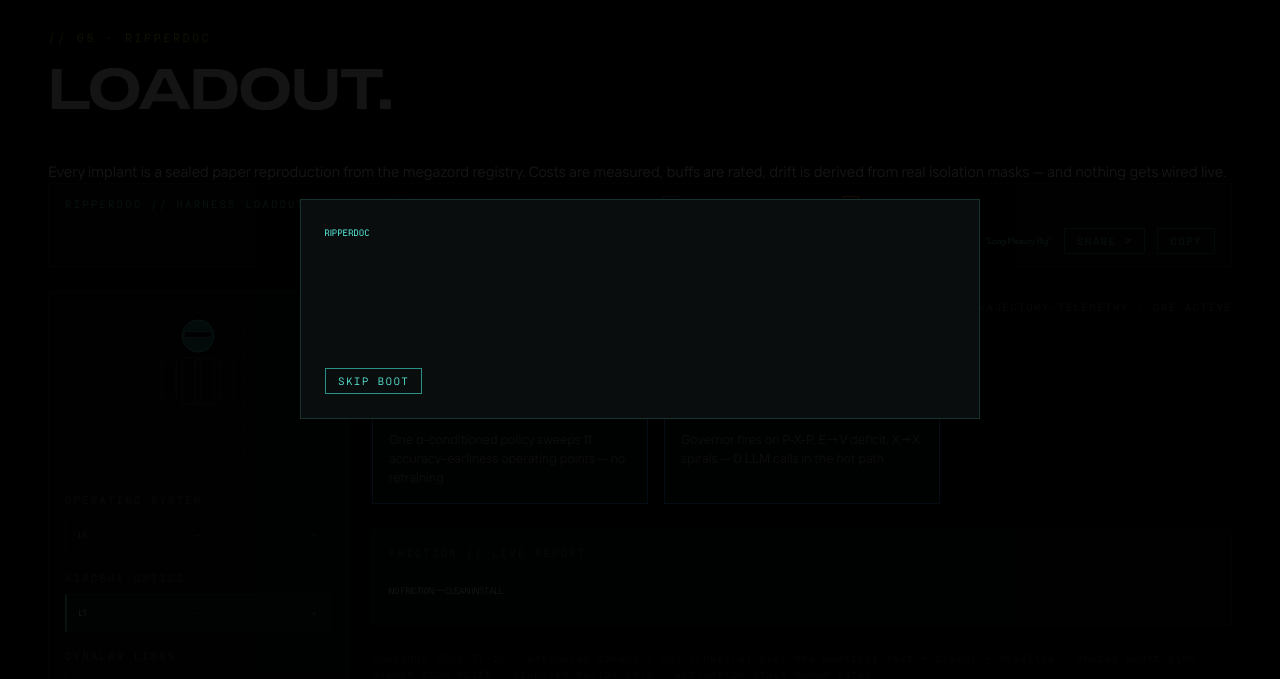
it: Loadout › single-slot equip swaps the occupant
Click the button "Skip boot" at coordinates (374, 381), box left=325, top=368, right=422, bottom=394
(page scrolled)
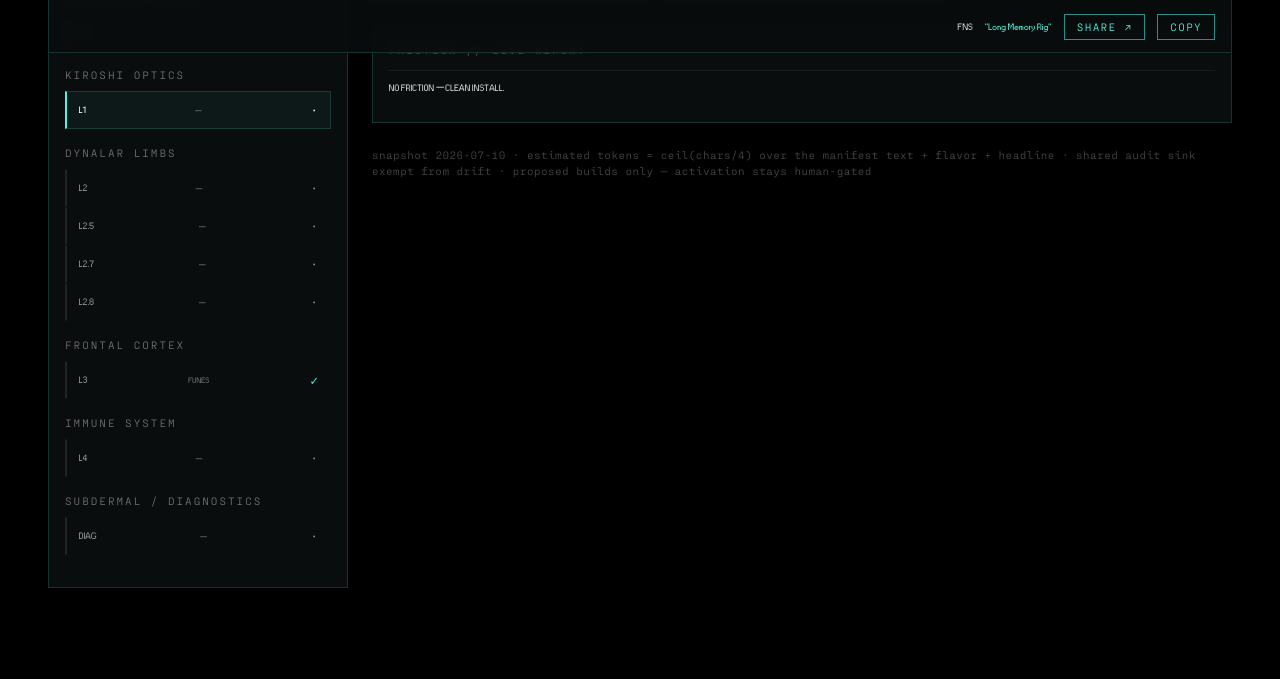
Click the button "L3 funes ✓" at coordinates (198, 380), box left=65, top=361, right=331, bottom=399
(page scrolled)
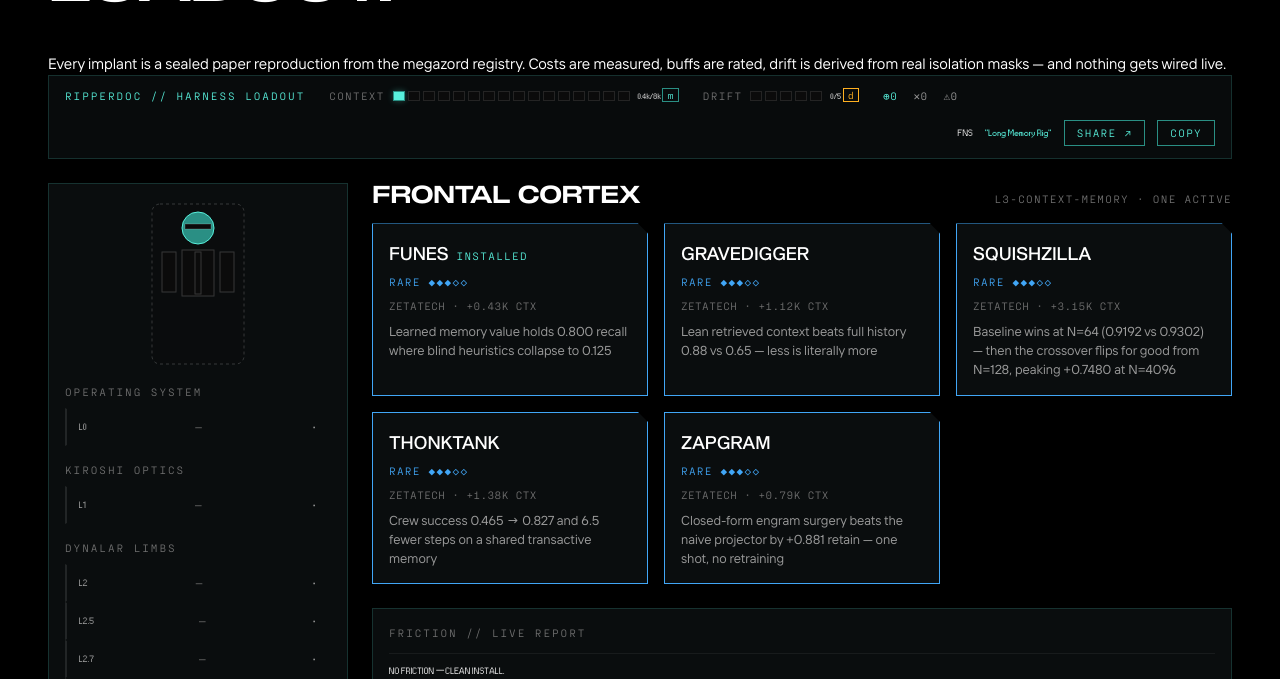
Click the button with aria-label "gravedigger — inspect implant" at coordinates (802, 310), box left=664, top=223, right=940, bottom=396
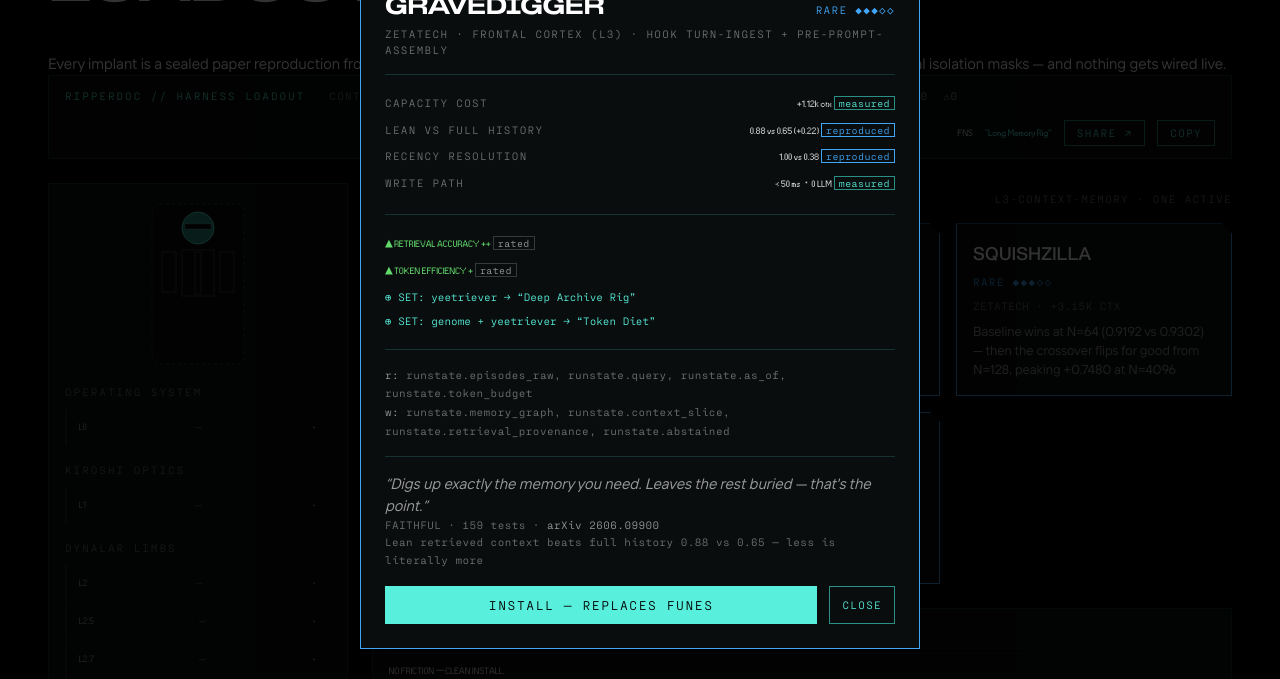
Click the button "Install — replaces funes" at coordinates (601, 605), box left=385, top=586, right=817, bottom=624
(page scrolled)
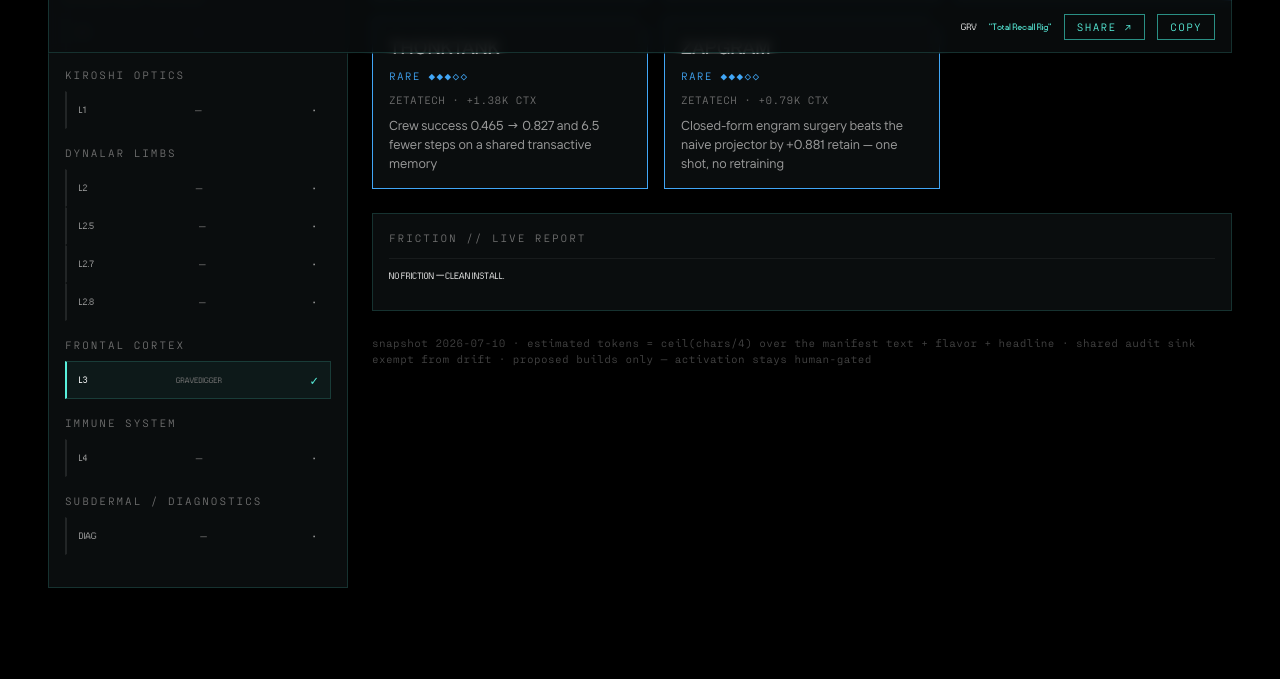
Expected: the button "L3 gravedigger ✓" is shown, left=65, top=361, right=331, bottom=399
